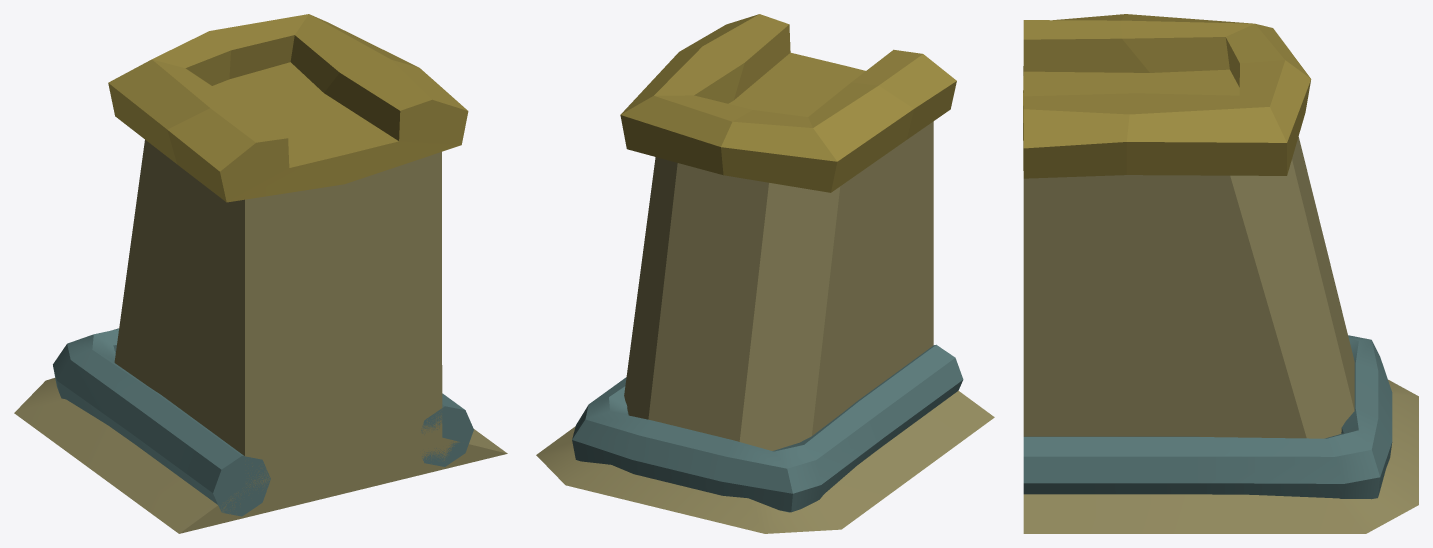
File: Int_11_Wall_Vert_End_Down.fbx
The picture shows the model from 3 angles, left to right: view 1: azimuth 30°, elevation 25°; view 2: azimuth 150°, elevation 25°; view 3: azimuth 270°, elevation 25°; orthographic projection. The views are drawn at different scales.
Visible parts, largest first — view 1: Int_11_Wall_Vert_End_Down; view 2: Int_11_Wall_Vert_End_Down; view 3: Int_11_Wall_Vert_End_Down.
Boxes of the visible parts, <box> form: Int_11_Wall_Vert_End_Down: <box>14,14,507,533</box>; Int_11_Wall_Vert_End_Down: <box>536,14,994,533</box>; Int_11_Wall_Vert_End_Down: <box>1023,14,1418,533</box>.
Bounding box in the file's own units: 0.9966 × 1.08 × 1.
